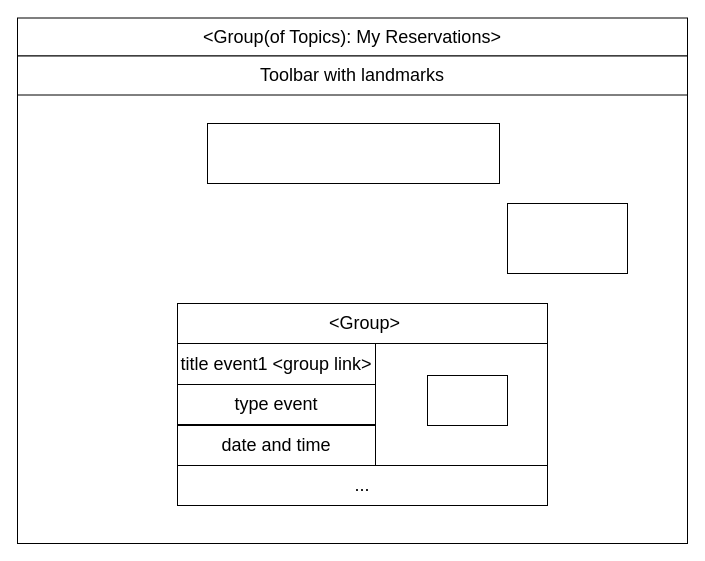
Some shapes in this 705 by 561 pixel diagram are drawn without their labels. The shapes that lost their labels are listed below. From the top down, each one's centre as x and y in pixels, then its label:
At (353,153): "Orientation info".
At (567,238): "delete all reservations button".
At (467,400): "remove button".
